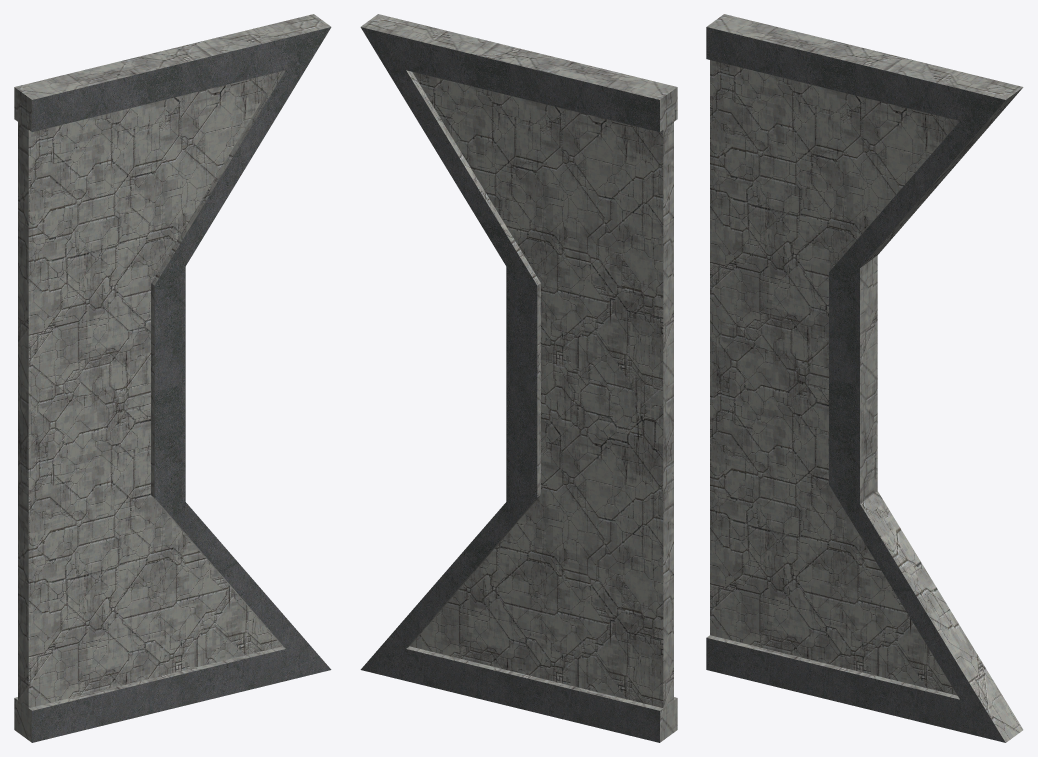
The model's file is Door2-RightSide-V3.fbx.
3 views of the same model, side by side, from view 1: azimuth 30°, elevation 25°; view 2: azimuth 150°, elevation 25°; view 3: azimuth 330°, elevation 25° (orthographic).
Parts seen in each view (by area): view 1: node_id7 (×2); view 2: node_id7 (×2); view 3: node_id7 (×2).
Boxes of the visible parts, left/top/right/bottom form: node_id7 (×2): left=14, top=14, right=331, bottom=742; node_id7 (×2): left=360, top=14, right=677, bottom=742; node_id7 (×2): left=706, top=14, right=1023, bottom=742.
Size of the model in its own units: 0.2495 by 0.512 by 0.0256.
Materials: 2 (2 with a texture image).
